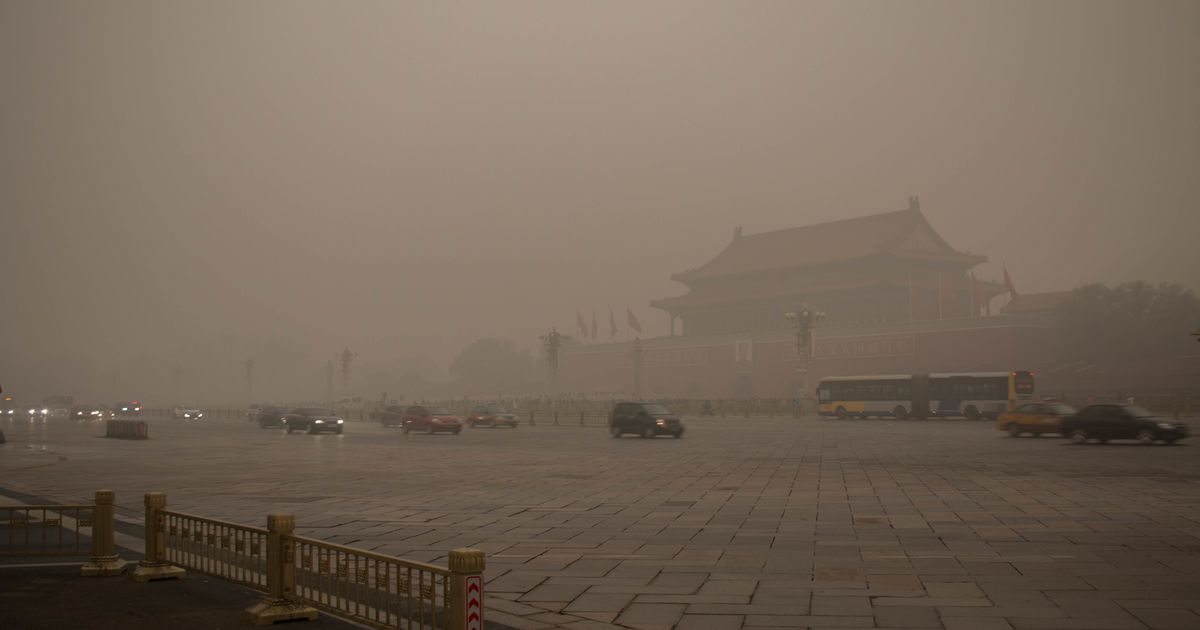bus: (820, 371, 1017, 423)
car: (1060, 404, 1192, 445), (610, 401, 686, 440), (996, 402, 1075, 436), (399, 407, 461, 436), (282, 408, 345, 436), (468, 397, 520, 425), (376, 406, 407, 426), (257, 407, 282, 427), (172, 405, 202, 421), (73, 405, 99, 422), (116, 402, 139, 416)
